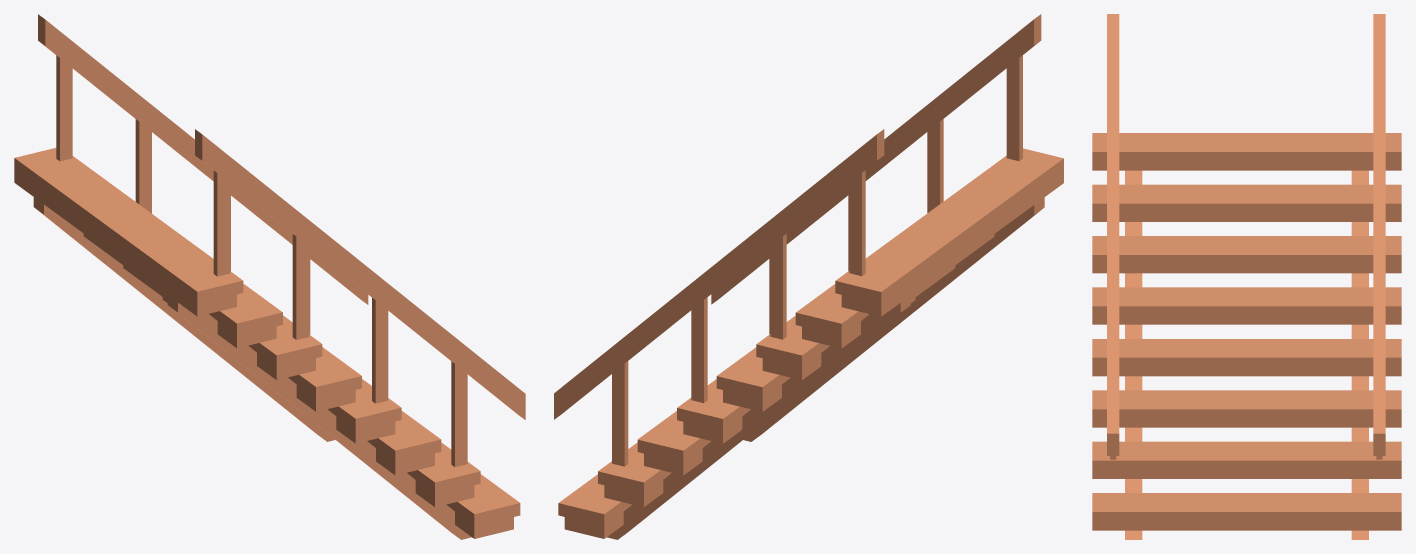
The model's file is stairsWideWoodHandrail.glb.
3 views of the same model, side by side, from view 1: azimuth 30°, elevation 25°; view 2: azimuth 150°, elevation 25°; view 3: azimuth 270°, elevation 25° (orthographic). The views are drawn at different scales.
Visible parts, largest first — view 1: stairsWideWoodHandrail, stairsWideWoodHandrail.001; view 2: stairsWideWoodHandrail, stairsWideWoodHandrail.001; view 3: stairsWideWoodHandrail, stairsWideWoodHandrail.001.
Boxes of the visible parts, x1=… form: stairsWideWoodHandrail: x1=14, y1=148, x2=520, y2=539; stairsWideWoodHandrail.001: x1=38, y1=14, x2=525, y2=466; stairsWideWoodHandrail: x1=558, y1=148, x2=1063, y2=539; stairsWideWoodHandrail.001: x1=554, y1=14, x2=1041, y2=466; stairsWideWoodHandrail: x1=1092, y1=133, x2=1401, y2=539; stairsWideWoodHandrail.001: x1=1107, y1=14, x2=1385, y2=459.
Size of the model in its own units: 3.19 by 4.34 by 3.
